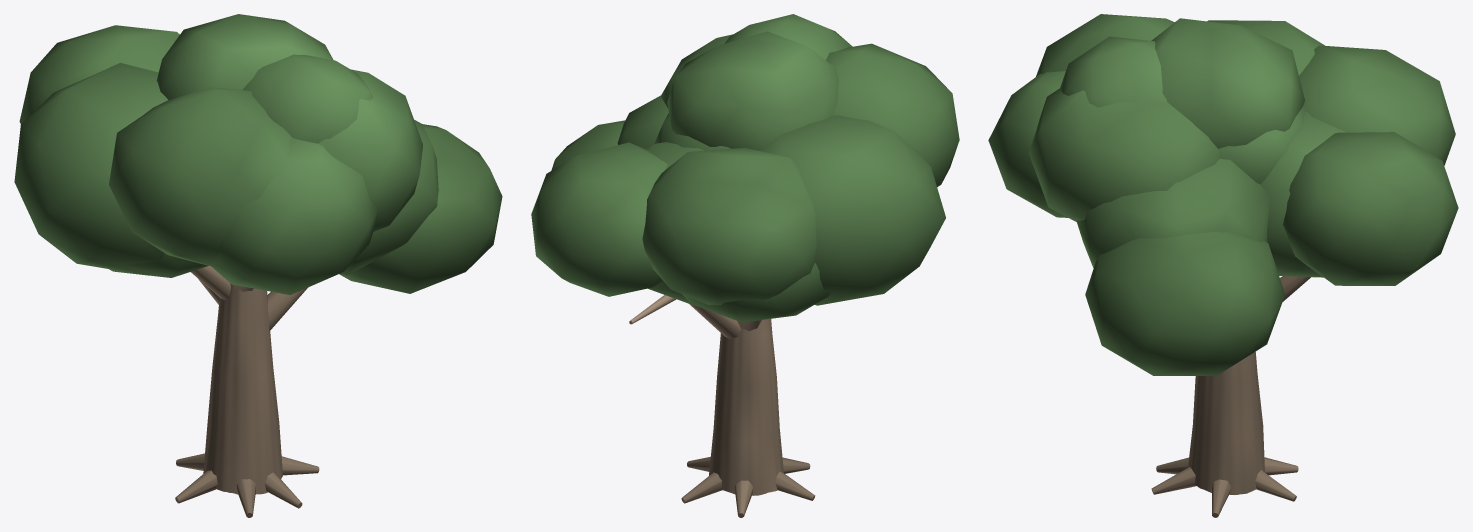
File: mature-tree-v01.glb
The picture shows the model from 3 angles, left to right: view 1: azimuth 30°, elevation 25°; view 2: azimuth 150°, elevation 25°; view 3: azimuth 270°, elevation 25°; orthographic projection. The views are drawn at different scales.
Parts seen in each view (by area): view 1: mature-tree; view 2: mature-tree; view 3: mature-tree.
Boxes of the visible parts, left/top/right/bottom form: mature-tree: left=14, top=14, right=502, bottom=517; mature-tree: left=531, top=14, right=959, bottom=517; mature-tree: left=988, top=14, right=1458, bottom=517.
Bounding box in the file's own units: 7.32 × 7.76 × 7.25.
